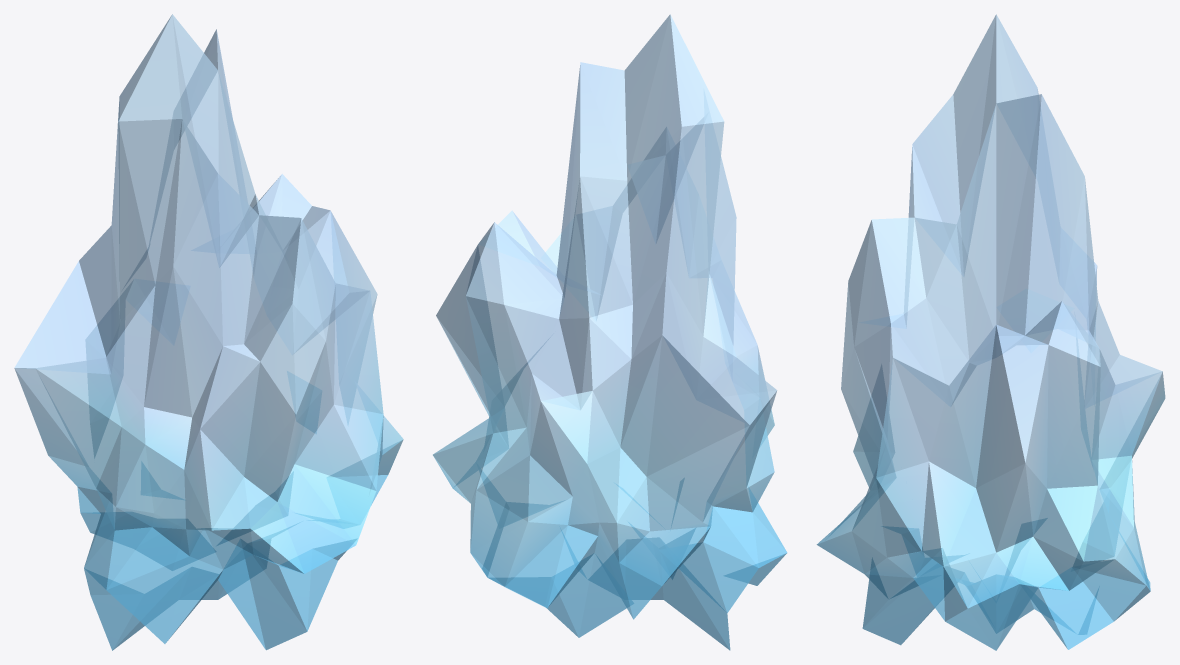
The model's file is iceberg.glb.
3 renders of one model, left to right at view 1: azimuth 30°, elevation 25°; view 2: azimuth 150°, elevation 25°; view 3: azimuth 270°, elevation 25°, orthographic.
Visible parts, largest first — view 1: GlacialIceberg; view 2: GlacialIceberg; view 3: GlacialIceberg.
Part boxes in pixels (bbox=[...]): GlacialIceberg: bbox=[14, 14, 403, 650]; GlacialIceberg: bbox=[433, 14, 787, 650]; GlacialIceberg: bbox=[816, 14, 1165, 650].
Bounding box in the file's own units: 2.74 × 4.76 × 2.44.
